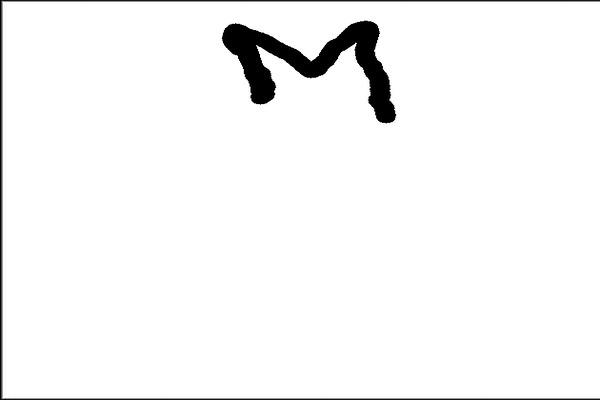M: (222, 17, 397, 121)
